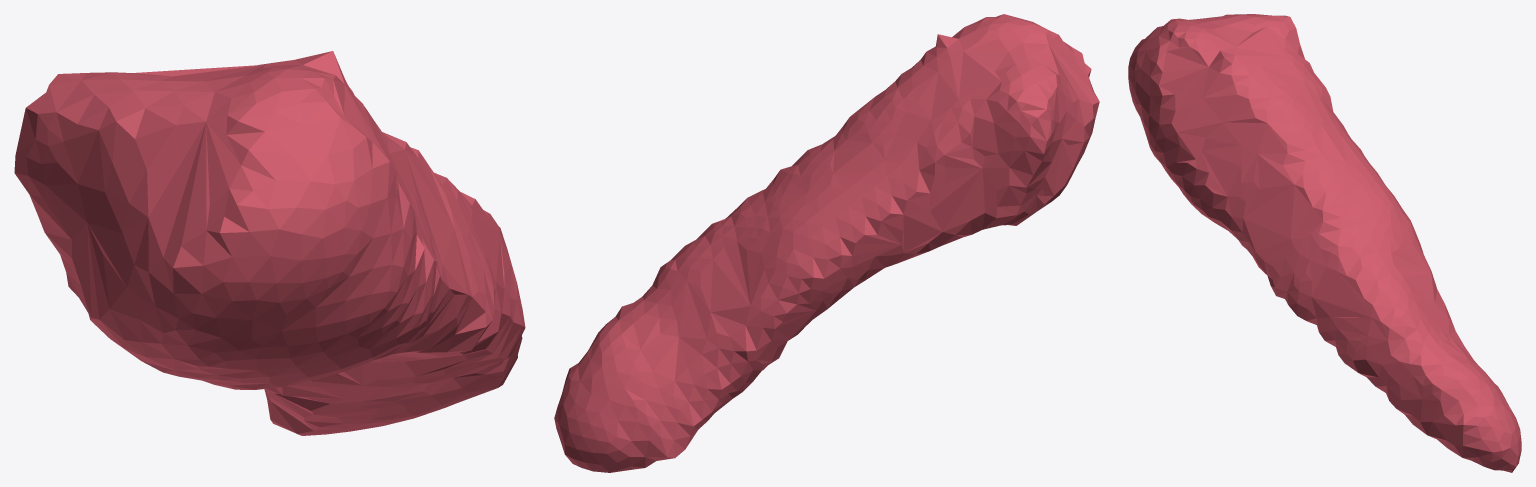
Rendered from Model_10553_LH__Cuneate_nucleus_(Cu).obj.
The picture shows the model from 3 angles, left to right: view 1: azimuth 30°, elevation 25°; view 2: azimuth 150°, elevation 25°; view 3: azimuth 270°, elevation 25°; orthographic projection. The views are drawn at different scales.
Size of the model in its own units: 2.27 by 2.15 by 2.28.
